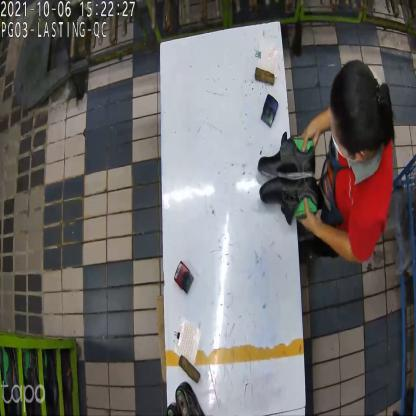shoes: (256, 129, 324, 231)
stamp: (258, 94, 279, 128), (175, 260, 195, 294)
